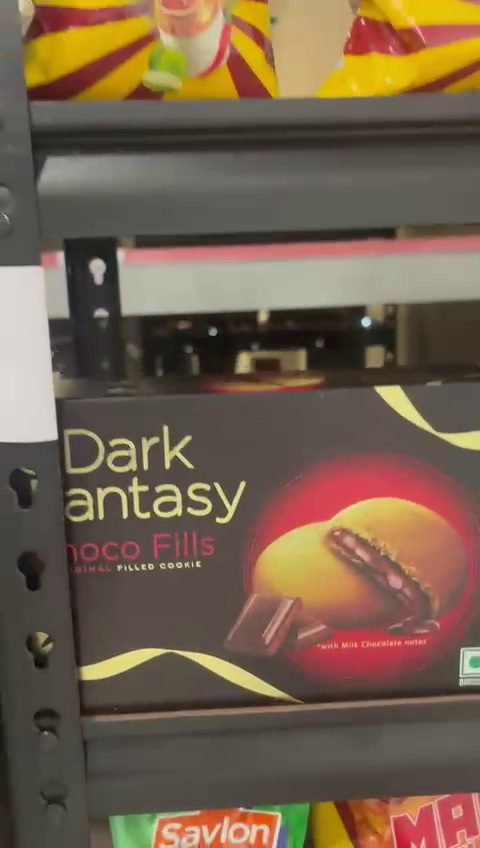Dark Fantasy: (60, 375, 480, 708)
